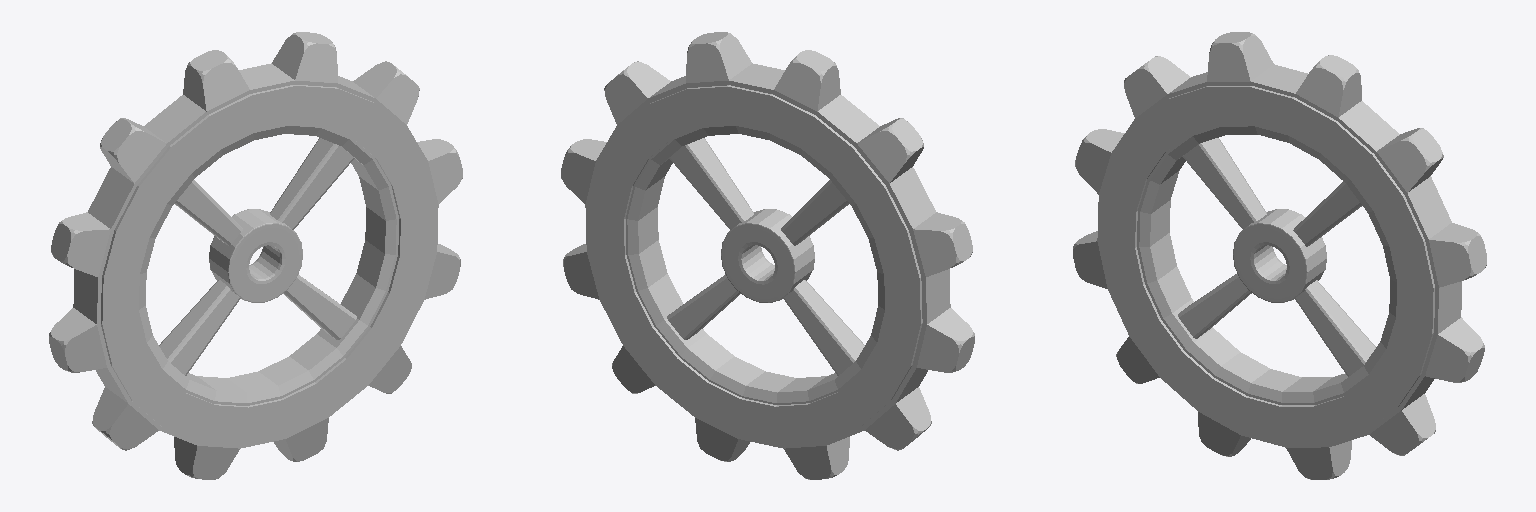
The model's file is gear4.obj.
3 views of the same model, side by side, from view 1: azimuth 30°, elevation 25°; view 2: azimuth 150°, elevation 25°; view 3: azimuth 330°, elevation 25° (orthographic).
Parts seen in each view (by area): view 1: Cylinder.016_Cylinder.031; view 2: Cylinder.016_Cylinder.031; view 3: Cylinder.016_Cylinder.031.
Boxes of the visible parts, box(x1,y1,x2,y2) form: Cylinder.016_Cylinder.031: box(49, 32, 462, 479); Cylinder.016_Cylinder.031: box(561, 32, 974, 479); Cylinder.016_Cylinder.031: box(1073, 32, 1486, 479).
Bounding box in the file's own units: 3.03 × 3.03 × 0.3509.